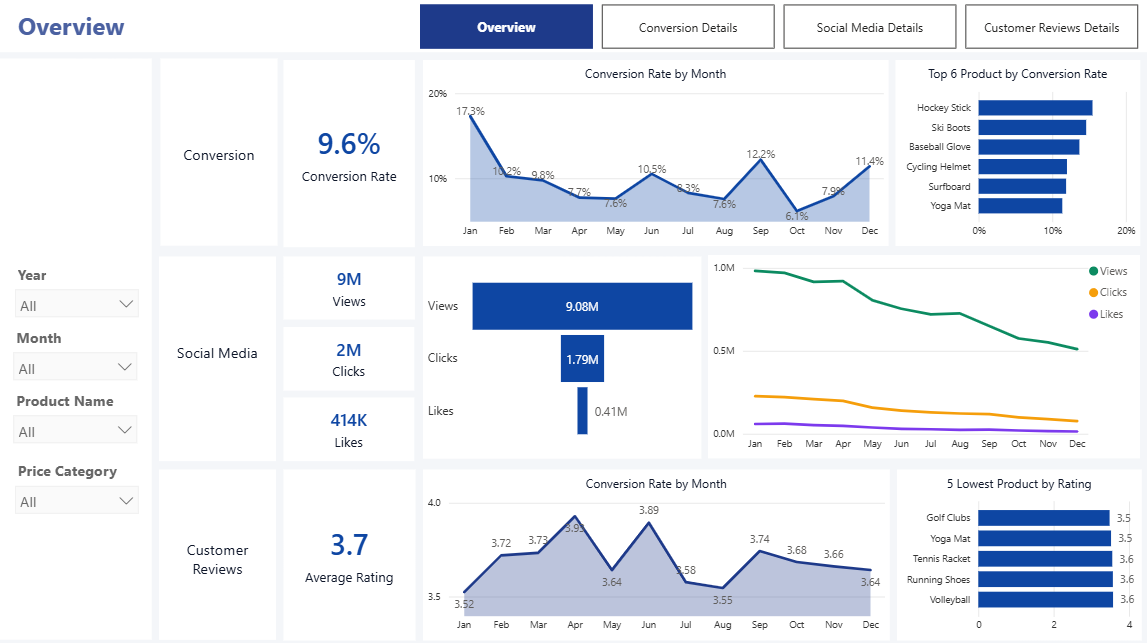

The page's visual inventory and layout, read from the dashboard file:
{"tool":"powerbi","page":{"name":"Overview","canvas":[1280,720],"ordinal":0},"visuals":[{"type":"textbox","box":[0,0,1280.8,58.3],"z":0},{"type":"textbox","box":[177.6,65.6,130,208],"z":1000},{"type":"textbox","box":[177.1,284.6,130,227.5],"z":2000},{"type":"textbox","box":[176.9,521.7,130,189.3],"z":3000},{"type":"cardVisual","title":"Coversion Rate","fields":{"Data":["_Calclations.ConversionRate"]},"box":[315.1,65.9,146,208],"z":4000},{"type":"cardVisual","title":"Coversion Rate","fields":{"Data":["_Calclations.Views"]},"box":[315.3,285.3,146.1,70],"z":5000},{"type":"cardVisual","title":"Coversion Rate","fields":{"Data":["_Calclations.Clicks"]},"box":[314.8,363.4,145.6,70.6],"z":6000},{"type":"cardVisual","title":"Coversion Rate","fields":{"Data":["_Calclations.Likes"]},"box":[314.8,441.3,145.6,70.6],"z":7000},{"type":"cardVisual","title":"Coversion Rate","fields":{"Data":["_Calclations.AvgRating"]},"box":[315,521.7,146.7,190],"z":8000},{"type":"areaChart","title":"Conversion Rate by Month","fields":{"Category":["Calendar.MonthNameShort"],"Y":["_Calclations.Conversion Rate"]},"box":[470,66.7,517,206.7],"z":9000},{"type":"lineChart","fields":{"Category":["Calendar.MonthNameShort"],"Y":["_Calclations.Views","_Calclations.Clicks","_Calclations.Likes"]},"box":[786.5,283.8,479.9,226.3],"z":10000},{"type":"funnel","fields":{"Y":["_Calclations.Views","_Calclations.Clicks","_Calclations.Likes"]},"box":[470,285.3,309,224.9],"z":11000},{"type":"barChart","title":"5 Lowest Product by Rating","fields":{"Category":["dim_products.ProductName"],"Y":["_Calclations.Average Rating"]},"box":[996.7,521.7,271.7,190],"z":12000},{"type":"clusteredBarChart","title":"Top 6 Product by Conversion Rate ","fields":{"Category":["dim_products.ProductName"],"Y":["_Calclations.Conversion Rate"]},"box":[995,66.7,271.7,206.7],"z":13000},{"type":"shape","box":[0,65.2,168.6,645.8],"z":14000},{"type":"slicer","fields":{"Values":["dim_products.ProductName"]},"box":[4.5,428.5,157.5,74.2],"z":15000},{"type":"slicer","fields":{"Values":["dim_products.PriceCategory"]},"box":[6.1,507.3,157.5,72.7],"z":16000},{"type":"pageNavigator","box":[466,4.8,800.1,49.3],"z":17000},{"type":"slicer","fields":{"Values":["Calendar.MonthNameLong"]},"box":[4.5,358.9,157.5,72.7],"z":18000},{"type":"slicer","fields":{"Values":["Calendar.Year"]},"box":[6.1,287.7,157.5,72.7],"z":19000},{"type":"areaChart","title":"Conversion Rate by Month","fields":{"Category":["Calendar.MonthNameShort"],"Y":["_Calclations.Average Rating"]},"box":[470,521.7,518.3,190],"z":19001}]}

Visuals, with their boxes in screenshot pixels (x1, y1, x2, y2), scaled from the page's 1280x720 canvas onto the 1147x643 screenshot:
textbox: rect(0, 0, 1146, 52)
textbox: rect(159, 59, 276, 244)
textbox: rect(159, 254, 275, 457)
textbox: rect(159, 466, 275, 635)
"Coversion Rate" cardVisual: rect(282, 59, 413, 245)
"Coversion Rate" cardVisual: rect(283, 255, 413, 317)
"Coversion Rate" cardVisual: rect(282, 325, 413, 388)
"Coversion Rate" cardVisual: rect(282, 394, 413, 457)
"Coversion Rate" cardVisual: rect(282, 466, 414, 636)
"Conversion Rate by Month" areaChart: rect(421, 60, 884, 244)
lineChart - Calendar.MonthNameShort x _Calclations.Views: rect(705, 253, 1135, 456)
funnel - _Calclations.Views x _Calclations.Clicks: rect(421, 255, 698, 456)
"5 Lowest Product by Rating" barChart: rect(893, 466, 1137, 636)
"Top 6 Product by Conversion Rate " clusteredBarChart: rect(892, 60, 1135, 244)
shape: rect(0, 58, 151, 635)
slicer - dim_products.ProductName: rect(4, 383, 145, 449)
slicer - dim_products.PriceCategory: rect(5, 453, 147, 518)
pageNavigator: rect(418, 4, 1135, 48)
slicer - Calendar.MonthNameLong: rect(4, 321, 145, 385)
slicer - Calendar.Year: rect(5, 257, 147, 322)
"Conversion Rate by Month" areaChart: rect(421, 466, 886, 636)
